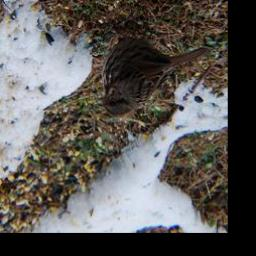Sparrow: (96, 22, 208, 120)
